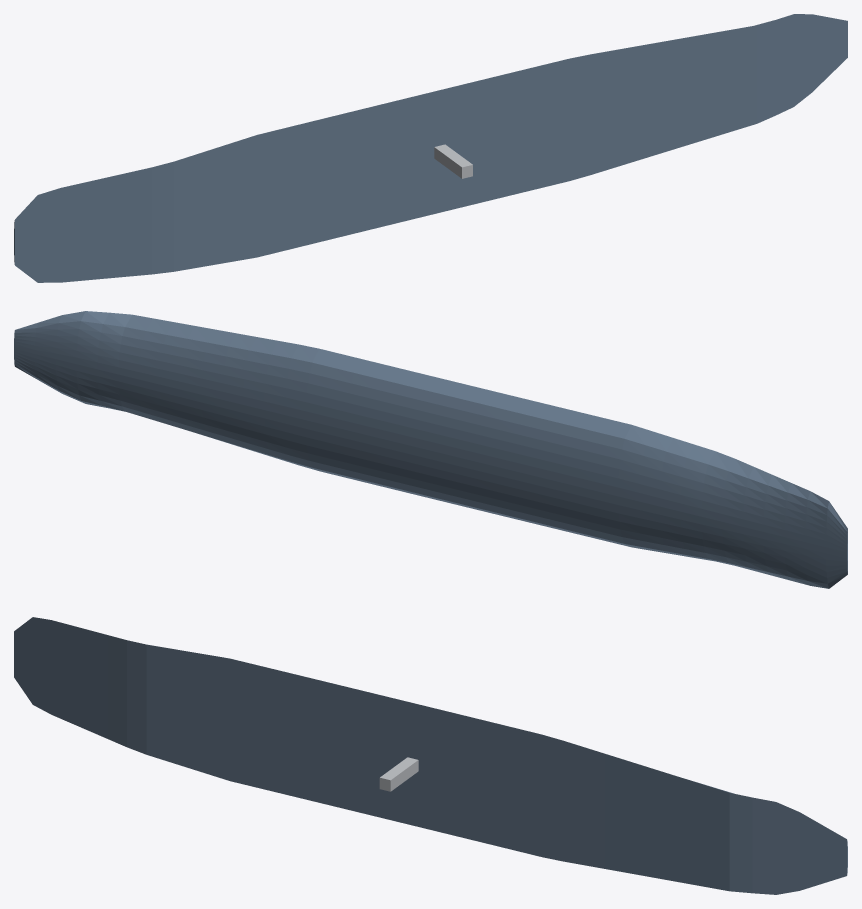
Rendered from loft-partly-submerged-slender.glb.
3 renders of one model, top to bottom at view 1: azimuth 30°, elevation 25°; view 2: azimuth 150°, elevation 25°; view 3: azimuth 330°, elevation 25°, orthographic.
Visible parts, largest first — view 1: loft-partly-submerged-slender; view 2: loft-partly-submerged-slender; view 3: loft-partly-submerged-slender.
Boxes of the visible parts, left/top/right/bottom form: loft-partly-submerged-slender: left=14, top=14, right=847, bottom=282; loft-partly-submerged-slender: left=14, top=311, right=847, bottom=588; loft-partly-submerged-slender: left=14, top=617, right=847, bottom=894.
Bounding box in the file's own units: 1.82 × 0.256 × 0.1576.
